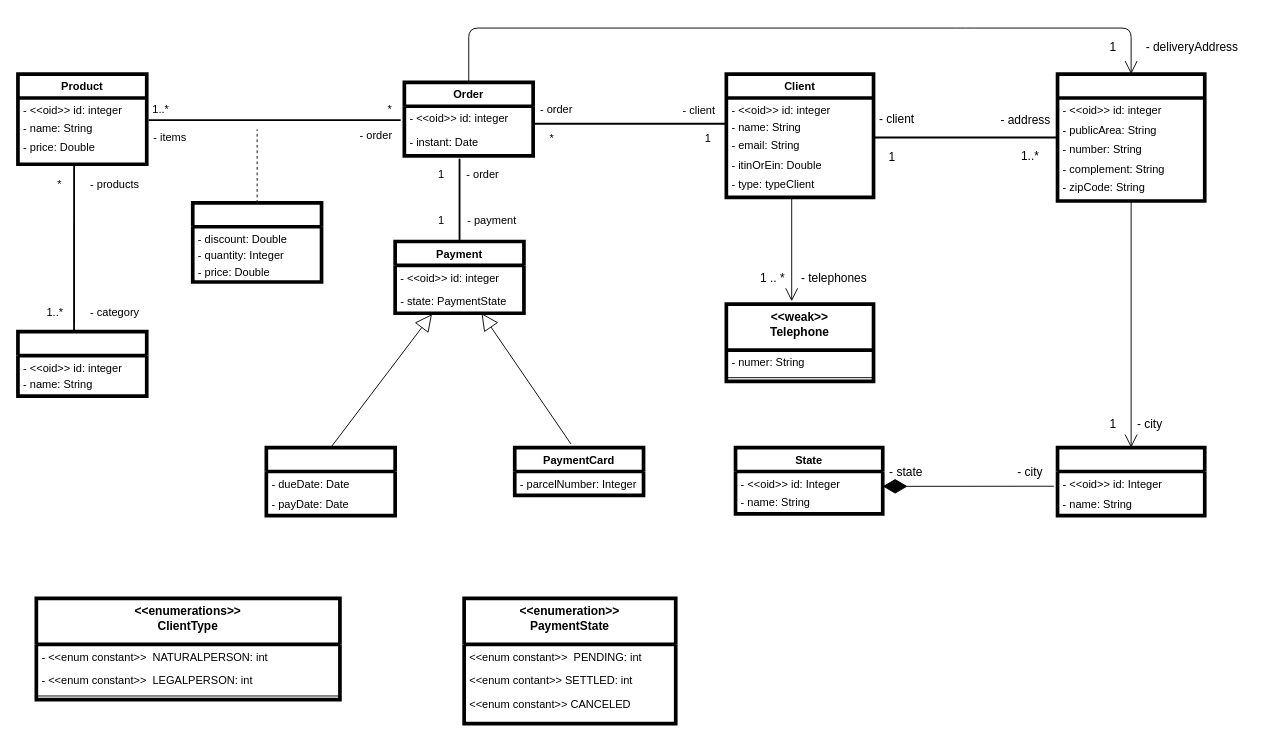
This 1262x742 diagram has some shape labels left out. Each missing label, with the box of its shape:
Address: (1055, 72, 1206, 202)
Category: (16, 329, 148, 397)
City: (1055, 445, 1206, 517)
ItemOrder: (190, 201, 323, 283)
PaymentSlip: (264, 445, 397, 517)
